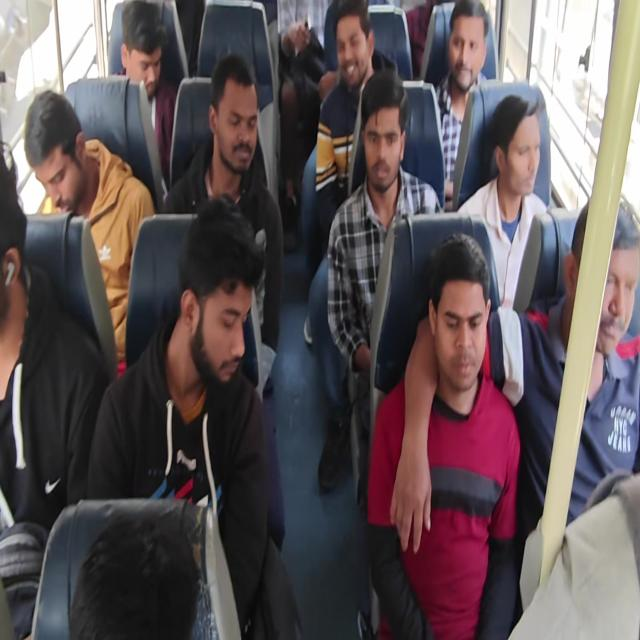person: (1, 1, 638, 638), (402, 196, 640, 622), (86, 195, 301, 638), (326, 68, 443, 636), (366, 231, 521, 638), (162, 54, 285, 552), (0, 151, 110, 638), (302, 0, 399, 492), (23, 88, 156, 377), (456, 93, 548, 314), (314, 0, 399, 236), (68, 513, 201, 639), (117, 0, 177, 193), (434, 0, 489, 208), (277, 16, 326, 212)
